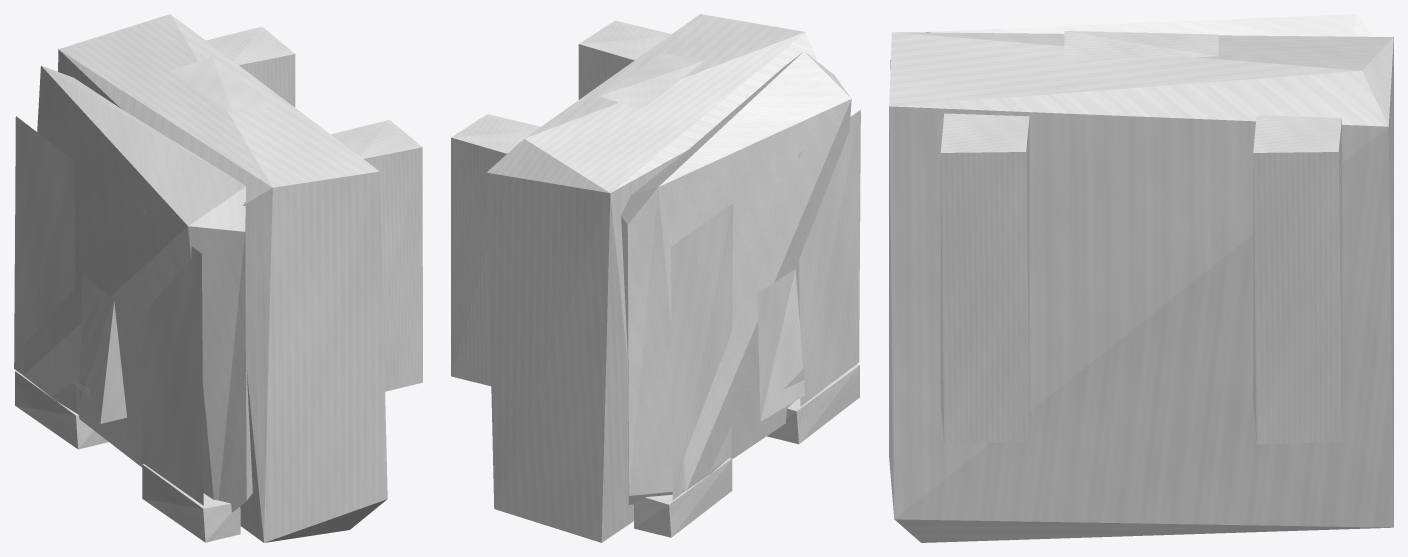
The model's file is Field_Medic_Rescue_Pack_ShadowProxy.glb.
3 views of the same model, side by side, from view 1: azimuth 30°, elevation 25°; view 2: azimuth 150°, elevation 25°; view 3: azimuth 270°, elevation 25° (orthographic). The views are drawn at different scales.
Visible parts, largest first — view 1: Field_Medic_Rescue_Pack_ShadowProxy; view 2: Field_Medic_Rescue_Pack_ShadowProxy; view 3: Field_Medic_Rescue_Pack_ShadowProxy.
Part boxes in pixels (x1,y1,x2,y2): Field_Medic_Rescue_Pack_ShadowProxy: [14, 14, 422, 542]; Field_Medic_Rescue_Pack_ShadowProxy: [451, 14, 860, 542]; Field_Medic_Rescue_Pack_ShadowProxy: [889, 14, 1393, 542].
Bounding box in the file's own units: 0.2498 × 0.3533 × 0.3391.
3 materials, 3 textured.
